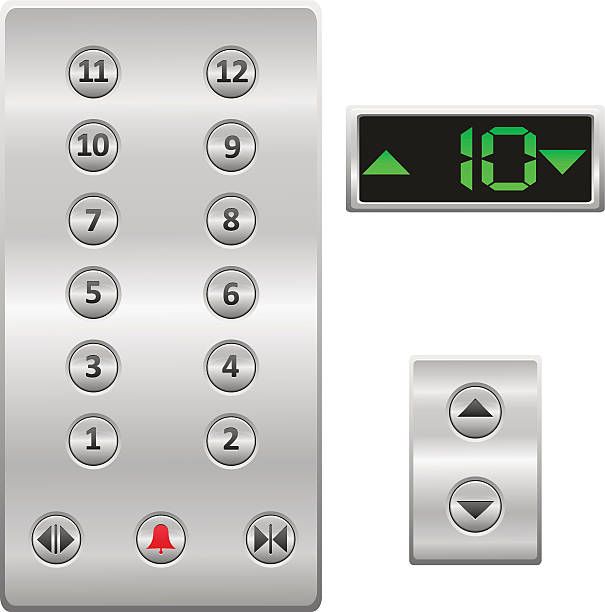button: (441, 472, 506, 540), (445, 379, 506, 446), (129, 509, 191, 574), (63, 116, 125, 178), (201, 336, 263, 398), (200, 42, 261, 105), (63, 43, 125, 102), (26, 508, 85, 570), (200, 410, 260, 470), (61, 190, 123, 248), (63, 264, 124, 322), (243, 508, 299, 571), (200, 189, 259, 248), (201, 263, 260, 322), (64, 411, 123, 470), (202, 116, 260, 176), (63, 337, 122, 395)
sign: (338, 99, 605, 221)
